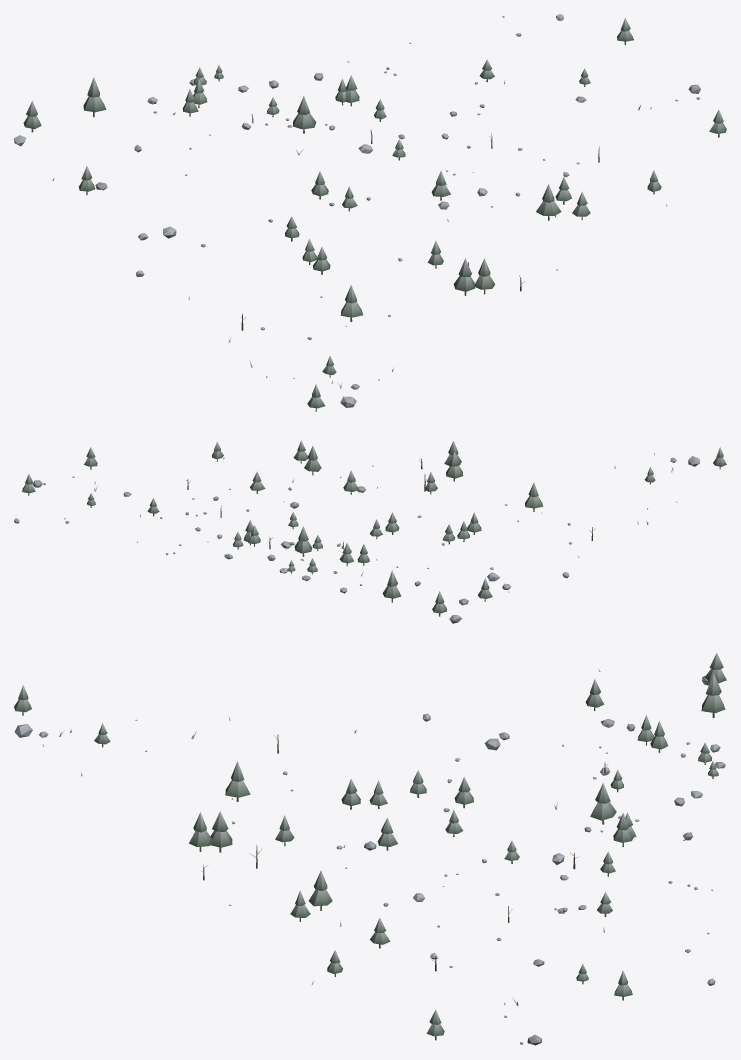
Rendered from frost_land_scatter_c15_11_lod1.glb.
The picture shows the model from 3 angles, top to bottom: view 1: azimuth 30°, elevation 25°; view 2: azimuth 150°, elevation 25°; view 3: azimuth 270°, elevation 25°; orthographic projection. The views are drawn at different scales.
Parts seen in each view (by area): view 1: frost_land_scatter_c15_11_lod1; view 2: frost_land_scatter_c15_11_lod1; view 3: frost_land_scatter_c15_11_lod1.
Part boxes in pixels (x1=…): frost_land_scatter_c15_11_lod1: x1=14, y1=14, x2=726, y2=411; frost_land_scatter_c15_11_lod1: x1=14, y1=440, x2=726, y2=623; frost_land_scatter_c15_11_lod1: x1=14, y1=653, x2=726, y2=1045.
Size of the model in its own units: 259 by 41.35 by 233.
